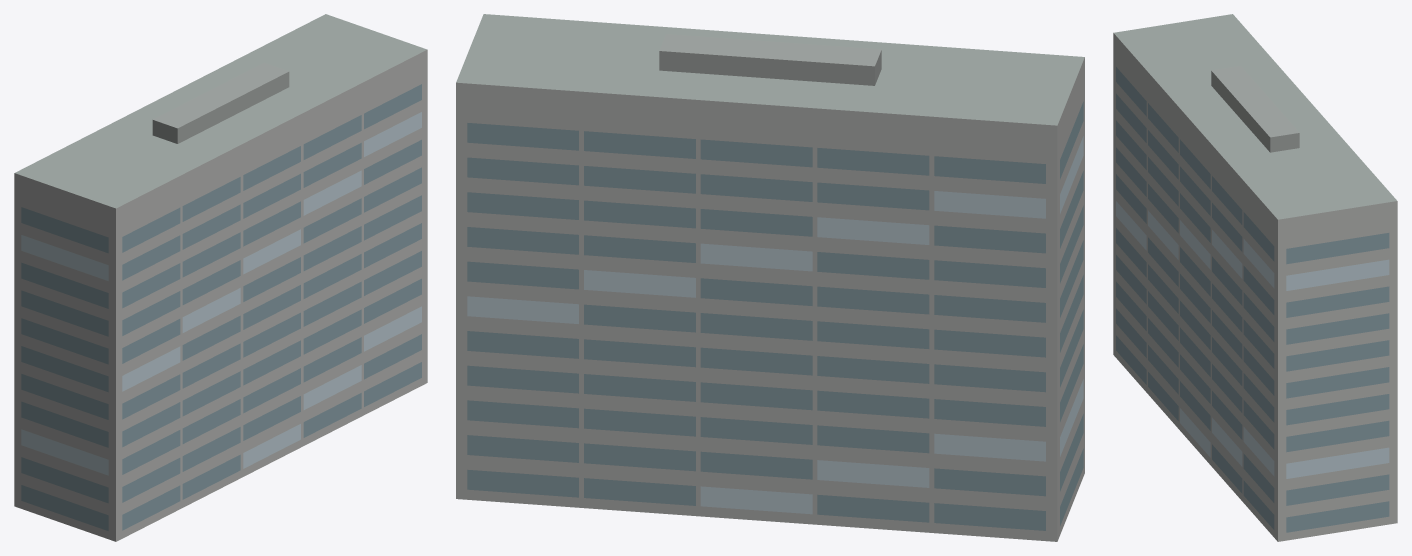
Rendered from fallback-songpa-helio-city-216.glb.
3 renders of one model, left to right at view 1: azimuth 30°, elevation 25°; view 2: azimuth 150°, elevation 25°; view 3: azimuth 270°, elevation 25°, orthographic. The views are drawn at different scales.
Visible parts, largest first — view 1: fallback-songpa-helio-city-216; view 2: fallback-songpa-helio-city-216; view 3: fallback-songpa-helio-city-216.
Part boxes in pixels (x1,y1,x2,y2): fallback-songpa-helio-city-216: (14,14,427,541); fallback-songpa-helio-city-216: (456,14,1084,541); fallback-songpa-helio-city-216: (1113,14,1397,541).
Bounding box in the file's own units: 45.78 × 35 × 26.7.
